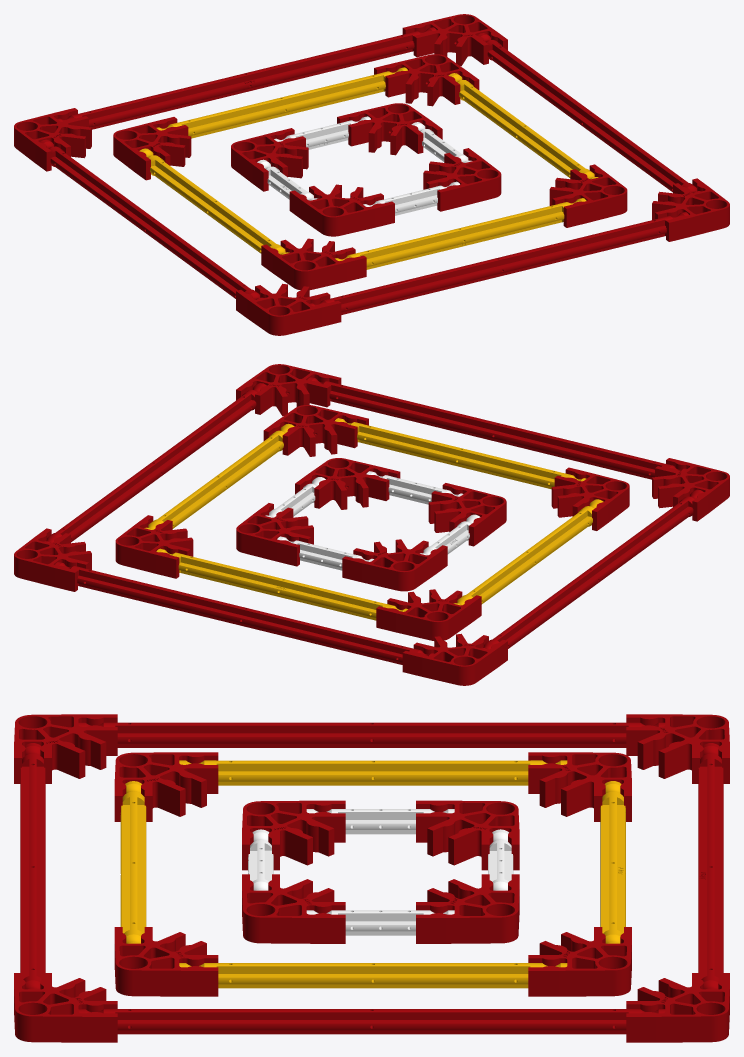
3 views of the same model, one above another, from view 1: azimuth 30°, elevation 25°; view 2: azimuth 150°, elevation 25°; view 3: azimuth 270°, elevation 25° (orthographic). The views are drawn at different scales.
Parts seen in each view (by area): view 1: Untitled.011, Untitled.020, Untitled.017, Untitled.016, Untitled.010, Untitled, Untitled.019, Untitled.006, Untitled.018, Untitled.021, Untitled.001, Untitled.012 (+12 smaller); view 2: Untitled.011, Untitled.020, Untitled.017, Untitled.016, Untitled, Untitled.010, Untitled.005, Untitled.015, Untitled.014, Untitled.012, Untitled.003, Untitled.021 (+12 smaller); view 3: Untitled.017, Untitled.016, Untitled.008, Untitled.004, Untitled.011, Untitled.020, Untitled.021, Untitled.001, Untitled.003, Untitled.013, Untitled.022, Untitled.012 (+12 smaller).
Part boxes in pixels (left/top/right/bottom): Untitled.011: left=57, top=27, right=436, bottom=129; Untitled.020: left=309, top=212, right=688, bottom=314; Untitled.017: left=40, top=139, right=263, bottom=299; Untitled.016: left=477, top=33, right=700, bottom=193; Untitled.010: left=335, top=198, right=586, bottom=269; Untitled: left=156, top=67, right=407, bottom=138; Untitled.019: left=236, top=283, right=341, bottom=335; Untitled.006: left=289, top=184, right=394, bottom=236; Untitled.018: left=261, top=238, right=366, bottom=290; Untitled.021: left=549, top=164, right=627, bottom=227; Untitled.001: left=337, top=103, right=442, bottom=155; Untitled.012: left=374, top=54, right=479, bottom=106; Untitled.011: left=55, top=562, right=434, bottom=664; Untitled.020: left=307, top=377, right=686, bottom=479; Untitled.017: left=480, top=489, right=703, bottom=649; Untitled.016: left=43, top=383, right=266, bottom=543; Untitled: left=156, top=548, right=407, bottom=620; Untitled.010: left=335, top=418, right=586, bottom=489; Untitled.005: left=342, top=539, right=447, bottom=591; Untitled.015: left=402, top=633, right=507, bottom=685; Untitled.014: left=376, top=589, right=481, bottom=640; Untitled.012: left=115, top=515, right=193, bottom=578; Untitled.003: left=295, top=458, right=400, bottom=509; Untitled.021: left=263, top=405, right=368, bottom=456; Untitled.017: left=78, top=722, right=665, bottom=747; Untitled.016: left=78, top=1009, right=665, bottom=1034; Untitled.008: left=179, top=760, right=567, bottom=785; Untitled.004: left=179, top=963, right=567, bottom=988; Untitled.011: left=698, top=743, right=723, bottom=989; Untitled.020: left=20, top=743, right=45, bottom=989; Untitled.021: left=114, top=927, right=218, bottom=996; Untitled.001: left=416, top=874, right=519, bottom=943; Untitled.003: left=242, top=874, right=345, bottom=943; Untitled.013: left=626, top=973, right=729, bottom=1042; Untitled.022: left=14, top=973, right=117, bottom=1042; Untitled.012: left=528, top=927, right=631, bottom=996.
Bounding box in the file's own units: 1.56 × 0.0727 × 1.56.
